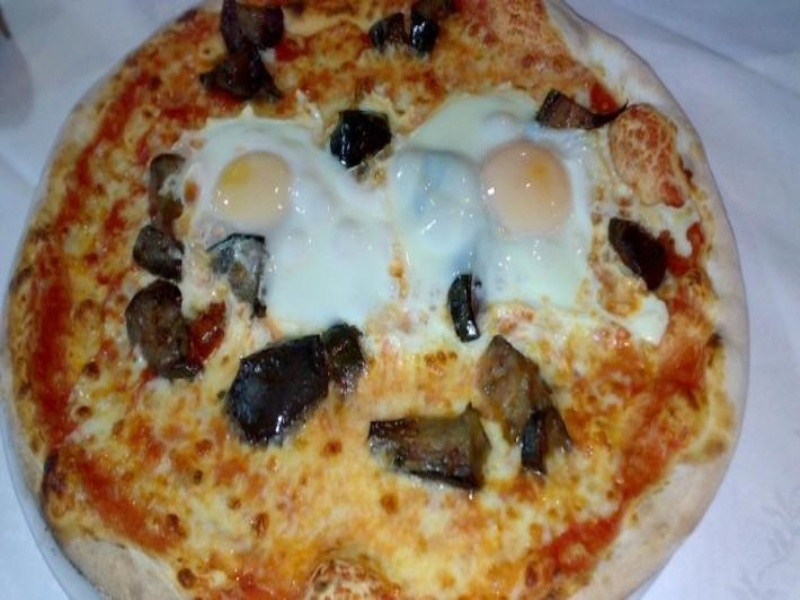oeuf: (461, 132, 582, 258), (209, 149, 302, 235)
